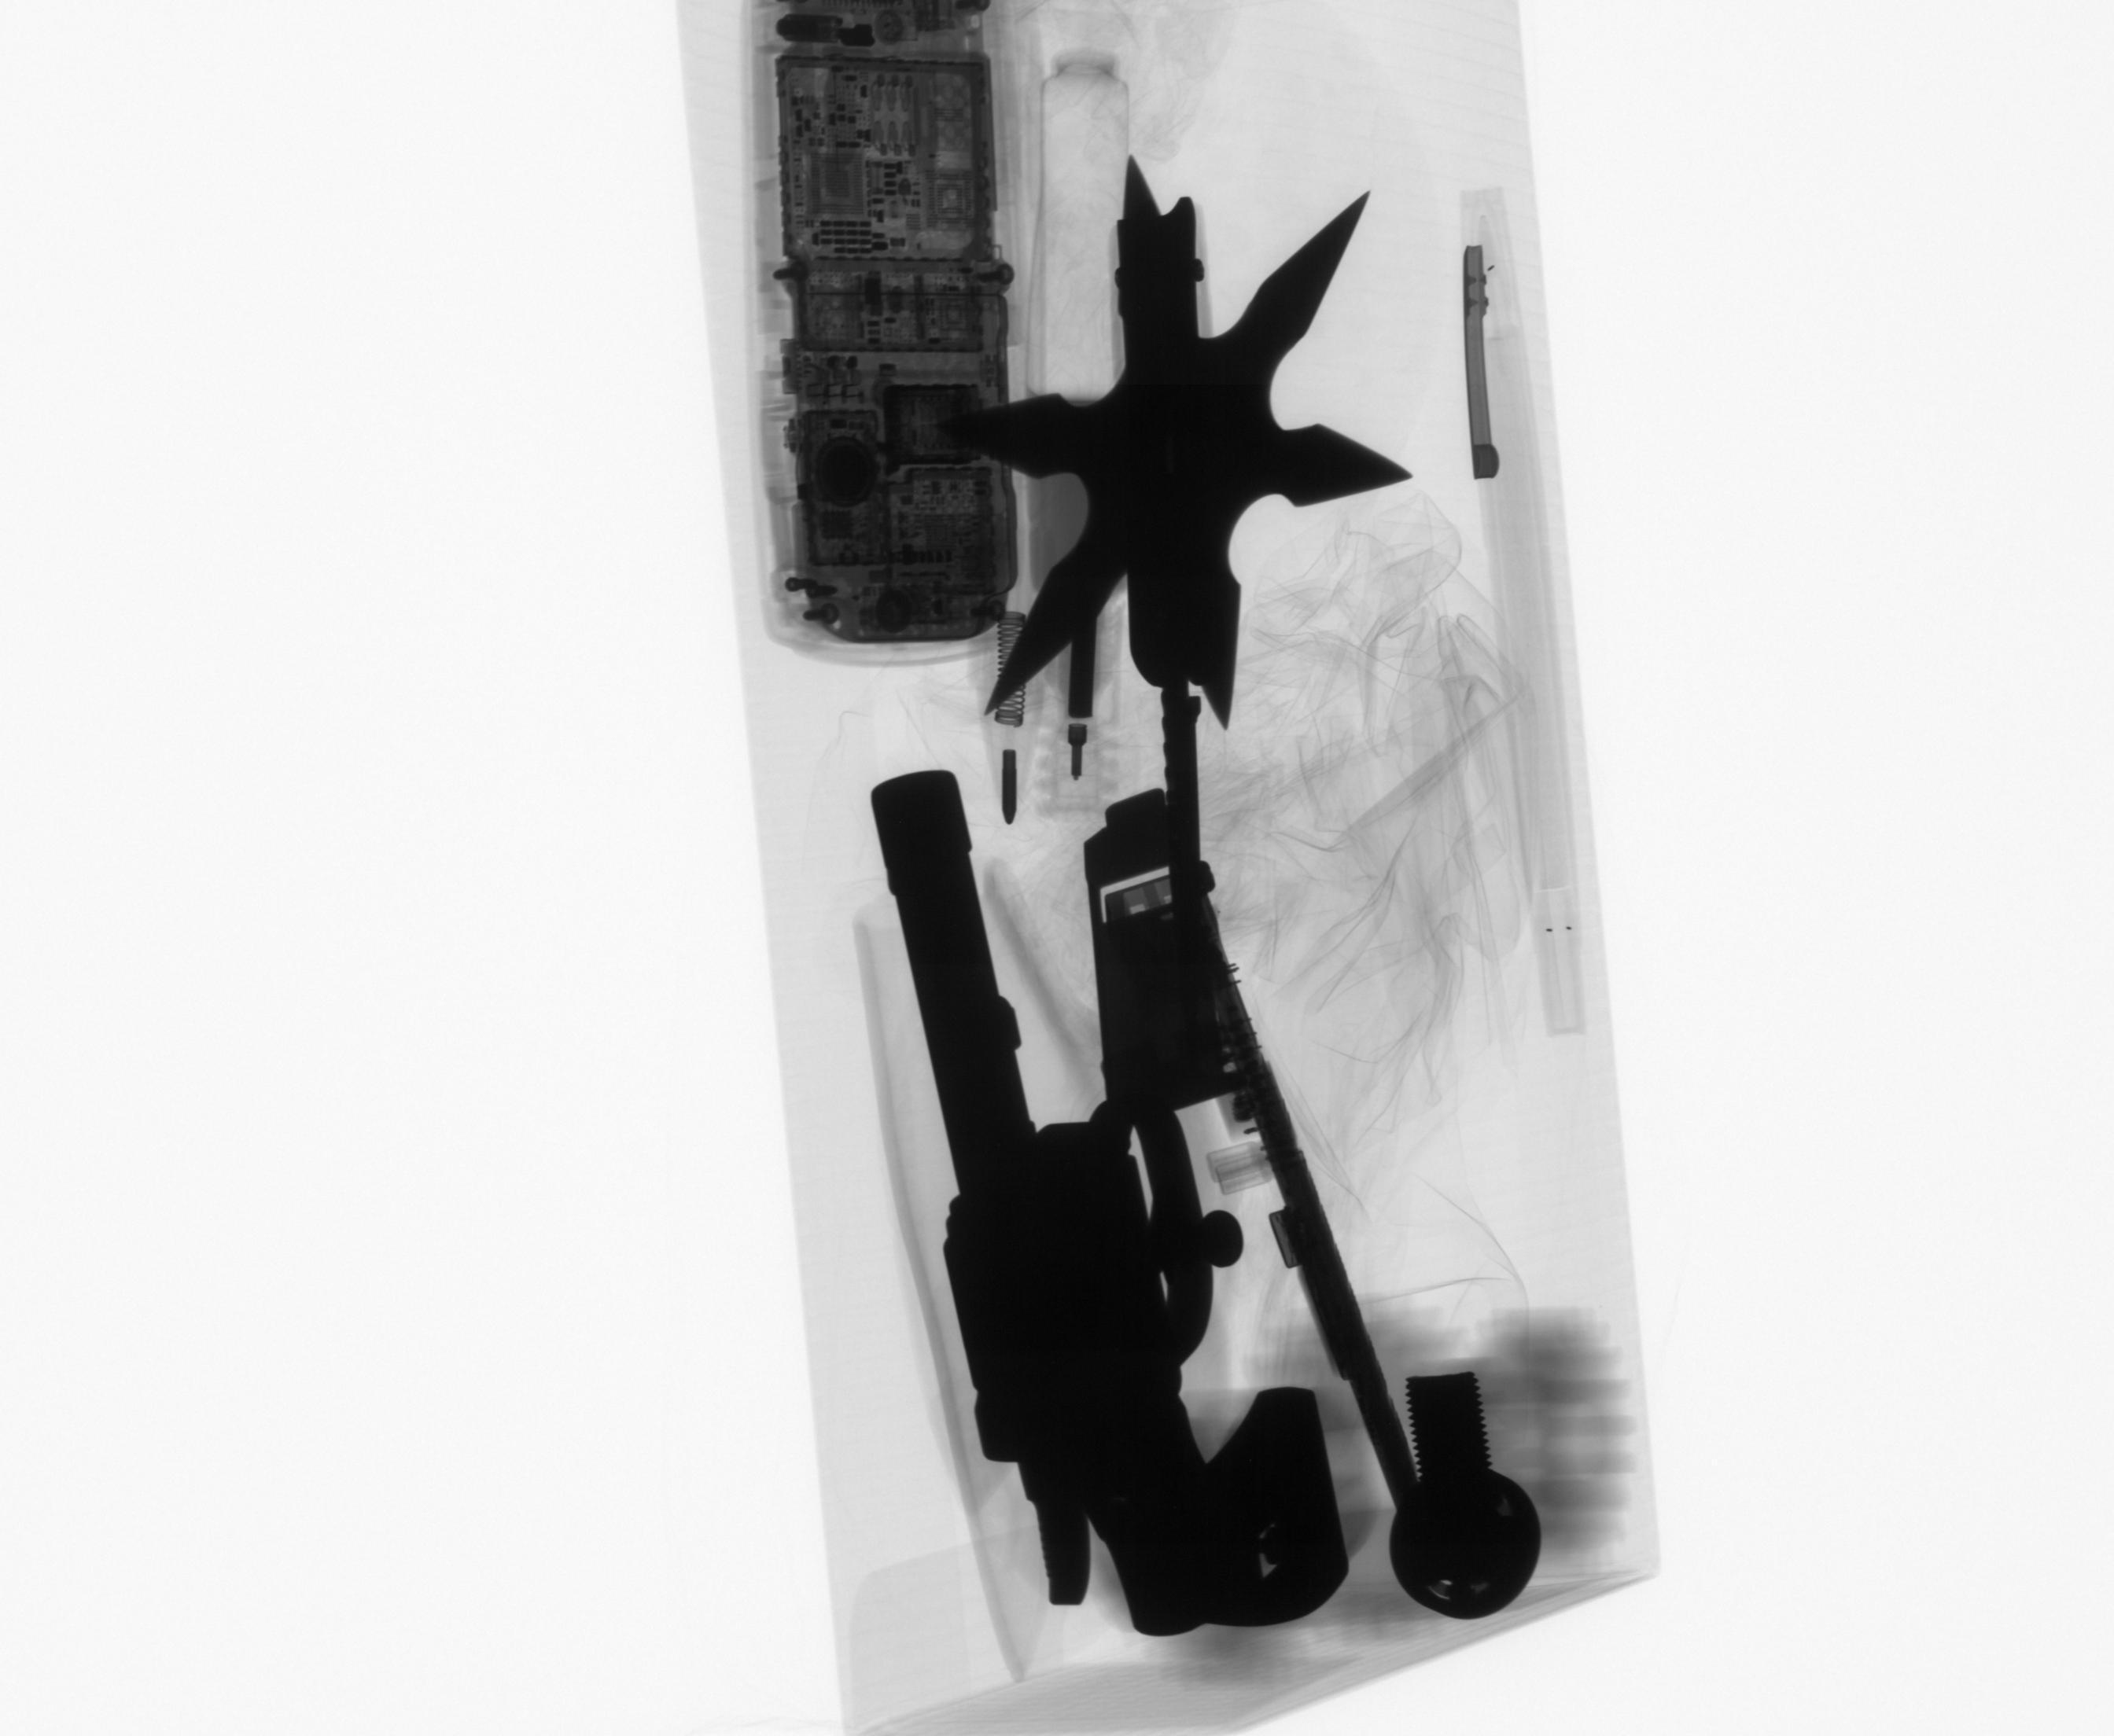Handgun: (834, 755, 1382, 1669)
Shuriken: (931, 151, 1449, 741)
